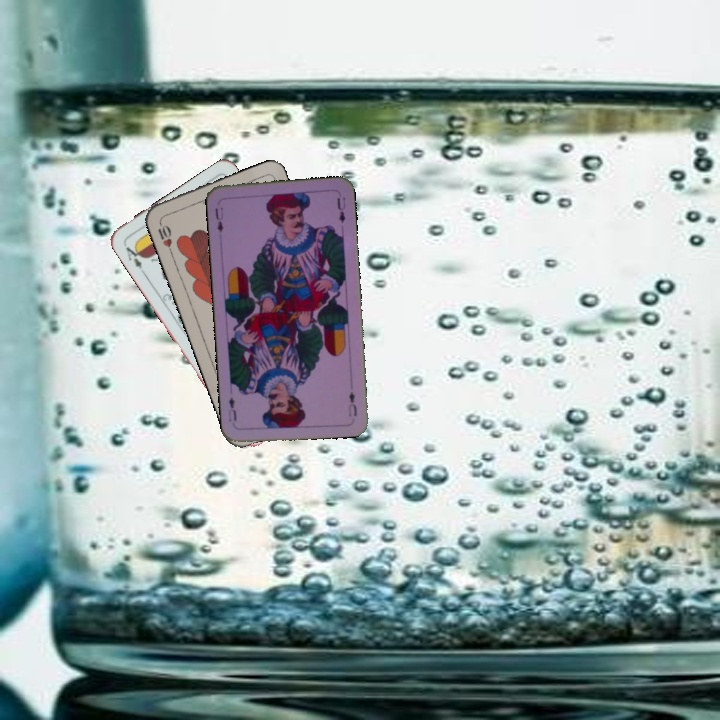EA: (120, 240, 147, 275)
EU: (211, 203, 226, 235), (344, 387, 359, 419)
H10: (154, 217, 175, 256)
